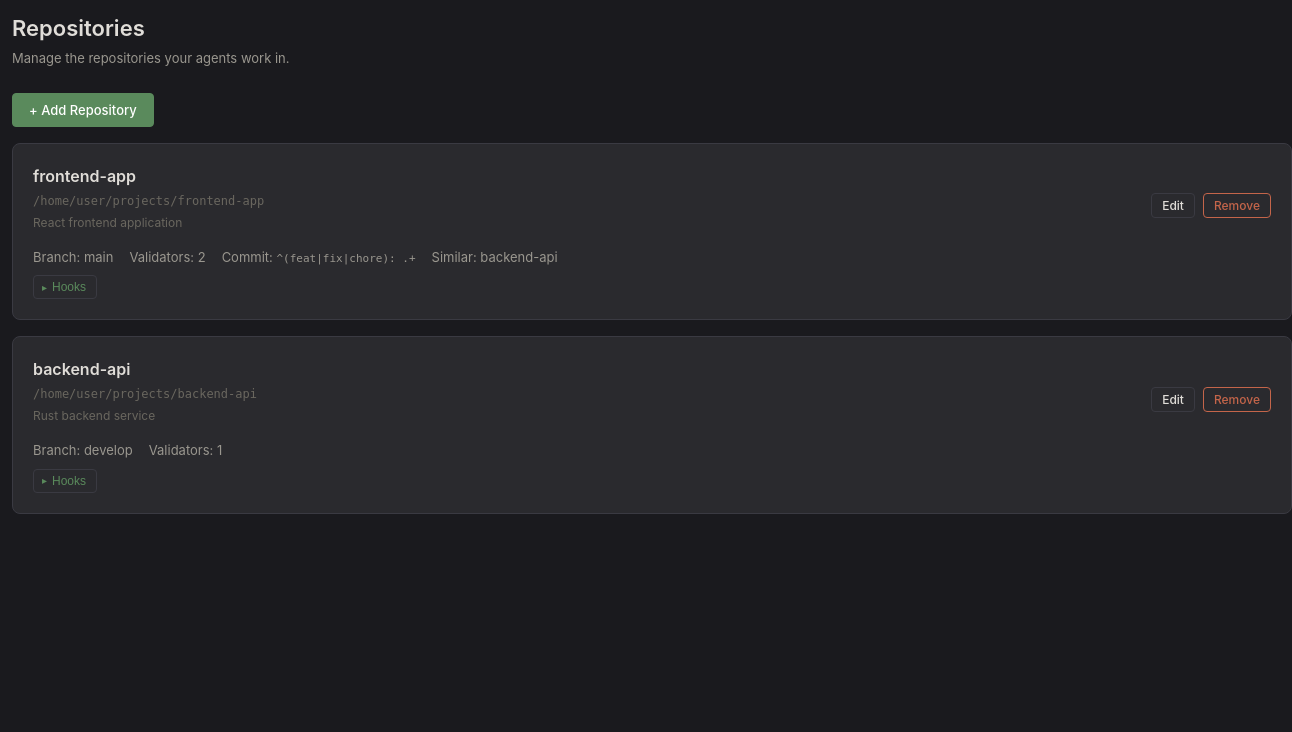
Test: ReposPage › cancels removal when Cancel clicked after Remove
Check: the text "frontend-app" is shown, box [33, 166, 136, 186]
Click the button "Remove" in the row of "/home/user/projects/frontend-app".
click(1237, 206)  # box [1203, 193, 1271, 218]
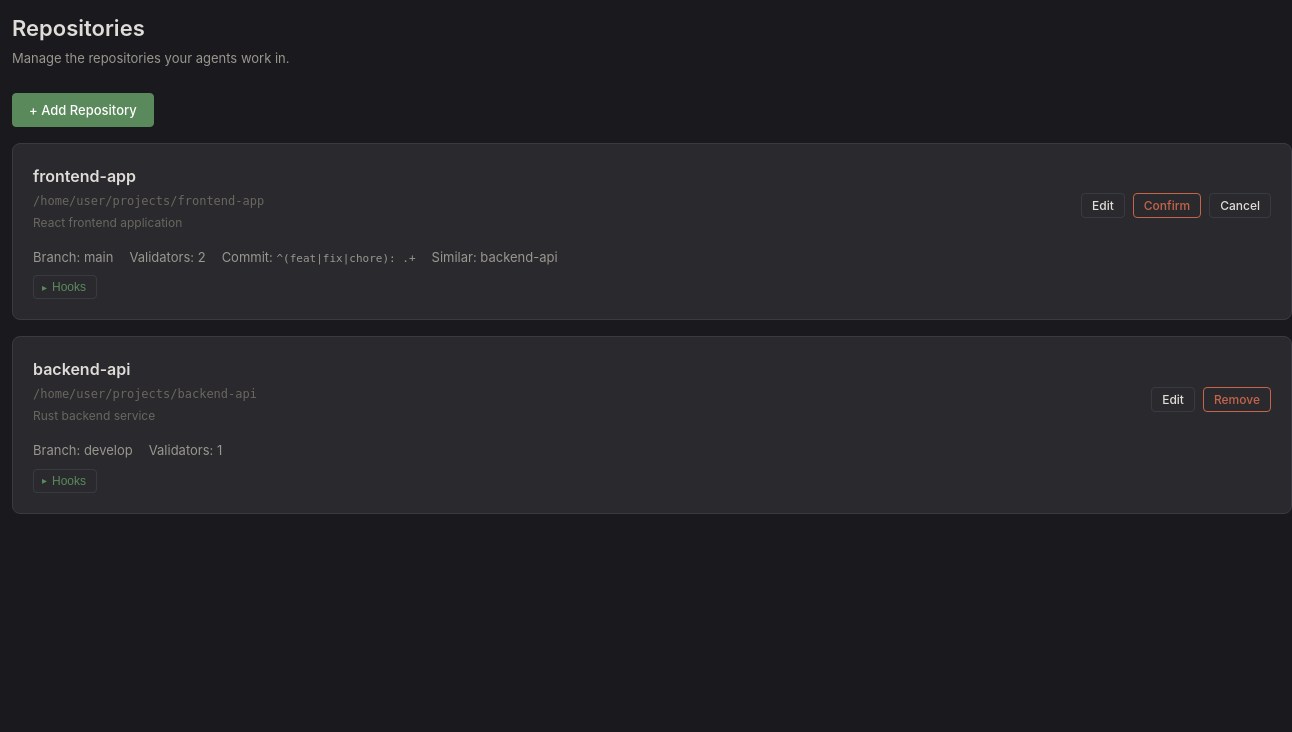
Check: the button "Confirm" is shown, box [1133, 193, 1201, 218]
Click the button "Cancel".
click(1240, 206)  # box [1209, 193, 1271, 218]
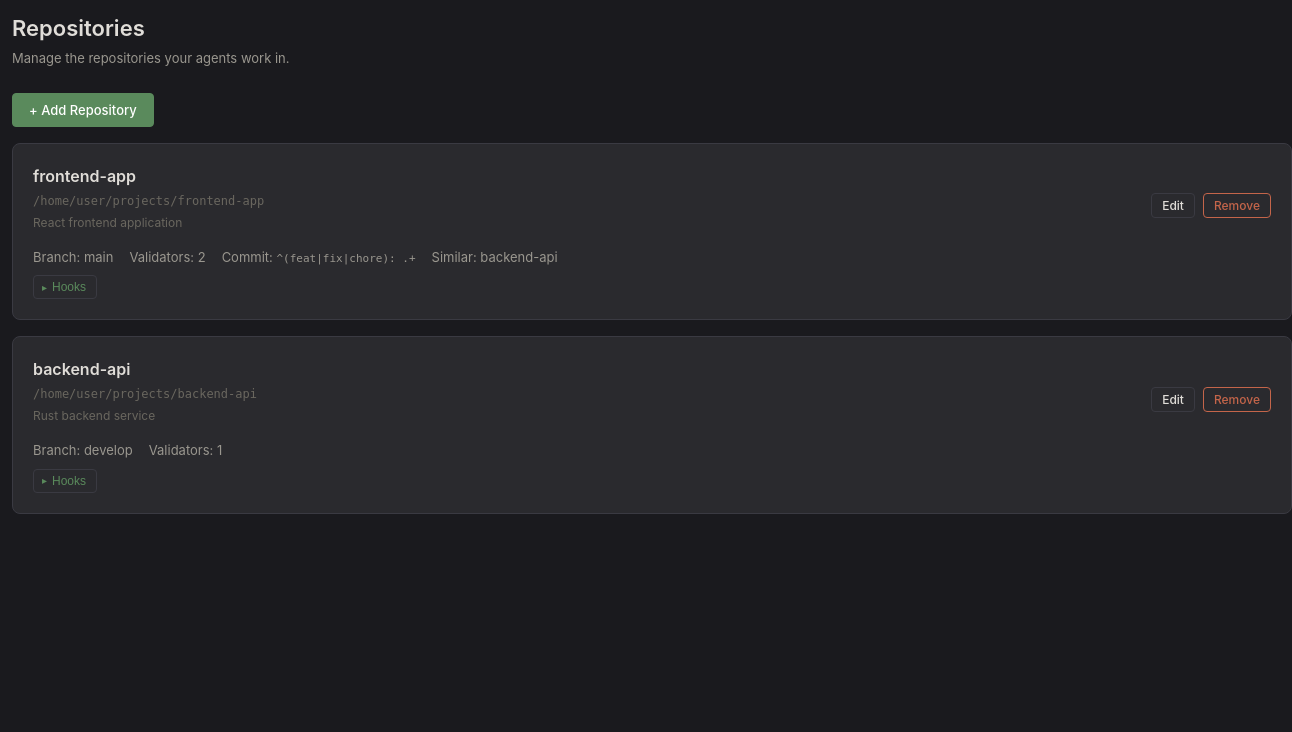
Check: the button "Confirm" is gone
Check: the number of buttons "Remove" is 2, box [1203, 193, 1271, 218]; [1203, 386, 1271, 412]
